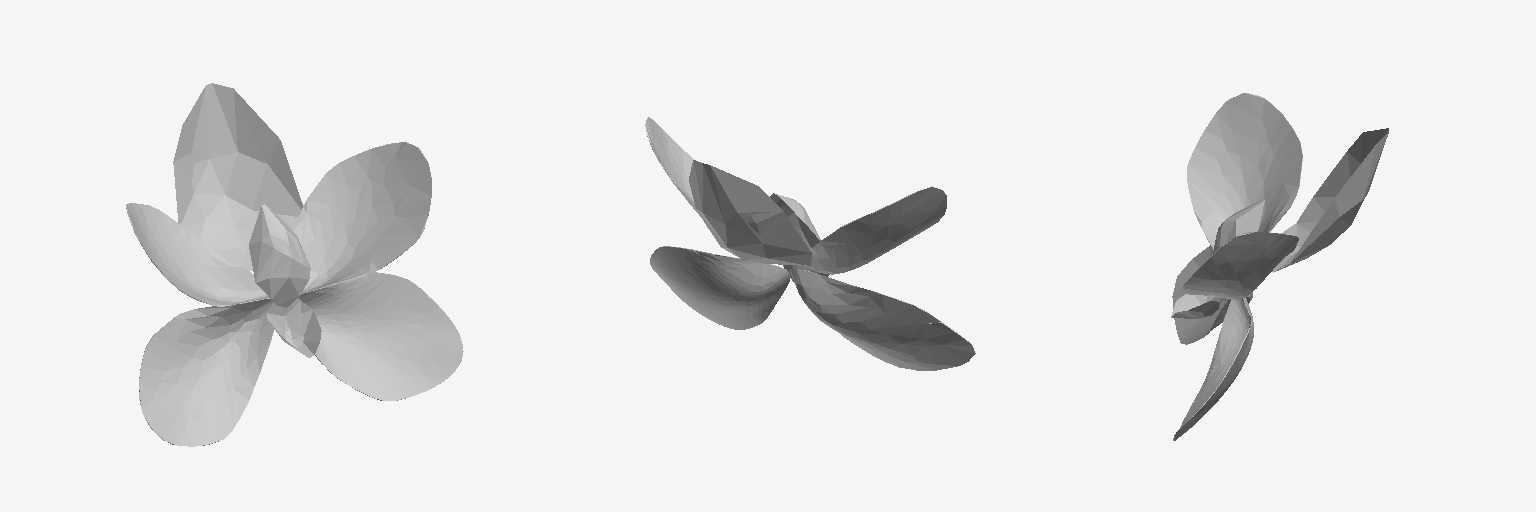
The model's file is flower.obj.
The picture shows the model from 3 angles: view 1: azimuth 30°, elevation 25°; view 2: azimuth 150°, elevation 25°; view 3: azimuth 270°, elevation 25°; orthographic projection.
Visible parts, largest first — view 1: fleur dos, fleur petalebas, fleur petalebas_2, fleur petalehaut_2, fleur petalehaut, fleur coeur, fleur coeur_2; view 2: fleur petalebas, fleur petalebas_2, fleur dos, fleur petalehaut, fleur petalehaut_2, fleur coeur; view 3: fleur petalehaut, fleur dos, fleur petalehaut_2, fleur petalebas_2, fleur petalebas, fleur coeur, fleur coeur_2.
Boxes of the visible parts, x1,y1,x2,y2 form: fleur dos: [173, 83, 302, 271]; fleur petalebas: [139, 298, 274, 446]; fleur petalebas_2: [298, 272, 463, 400]; fleur petalehaut_2: [294, 142, 431, 294]; fleur petalehaut: [126, 203, 268, 306]; fleur coeur: [249, 204, 310, 307]; fleur coeur_2: [267, 298, 321, 357]; fleur petalebas: [790, 268, 975, 370]; fleur petalebas_2: [650, 246, 789, 329]; fleur dos: [689, 160, 811, 265]; fleur petalehaut: [806, 186, 946, 274]; fleur petalehaut_2: [645, 117, 700, 216]; fleur coeur: [770, 193, 820, 248]; fleur petalehaut: [1187, 93, 1302, 250]; fleur dos: [1272, 128, 1388, 272]; fleur petalehaut_2: [1183, 232, 1298, 299]; fleur petalebas_2: [1173, 297, 1253, 440]; fleur petalebas: [1172, 245, 1252, 344]; fleur coeur: [1213, 199, 1264, 253]; fleur coeur_2: [1171, 294, 1222, 318].
Size of the model in its own units: 1.22 by 0.9554 by 0.7267.